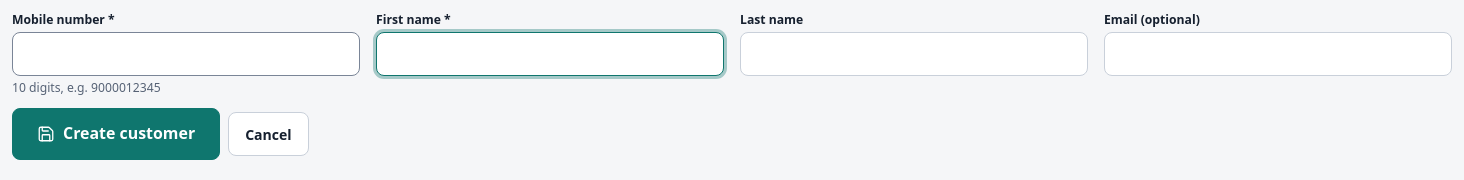
Test case: CustomerForm (create) › explains each missing or malformed field and sends nothing
Type "12345" into the field labelled "Mobile number * 10 digits, e.g. 9000012345". click: (186, 54)
box: [12, 32, 360, 76]
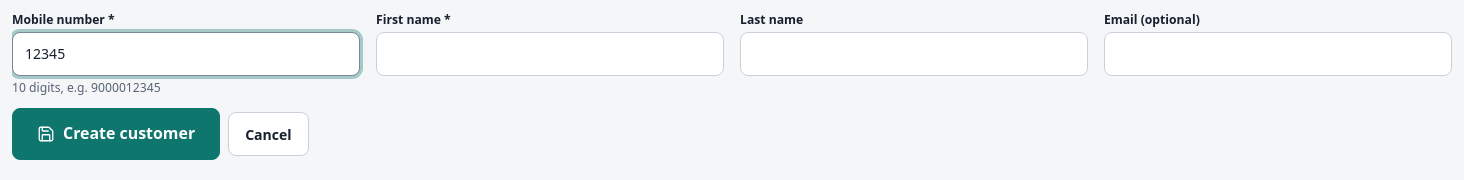
Type "nope" into the field labelled "Email (optional)". click: (1278, 54)
box: [1104, 32, 1452, 76]
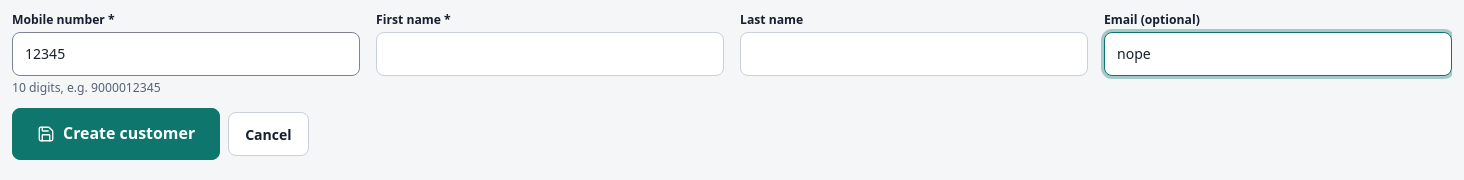
Click the button "Create customer". click: (116, 134)
box: [12, 108, 220, 160]
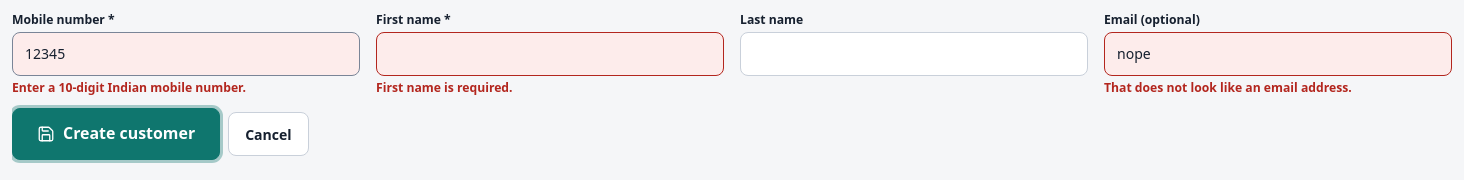
Result: the text "Enter a 10-digit Indian mobile number." is shown at [12, 79, 246, 96]
Result: the text "First name is required." is shown at [376, 79, 512, 96]
Result: the text "That does not look like an email address." is shown at [1104, 79, 1352, 96]
